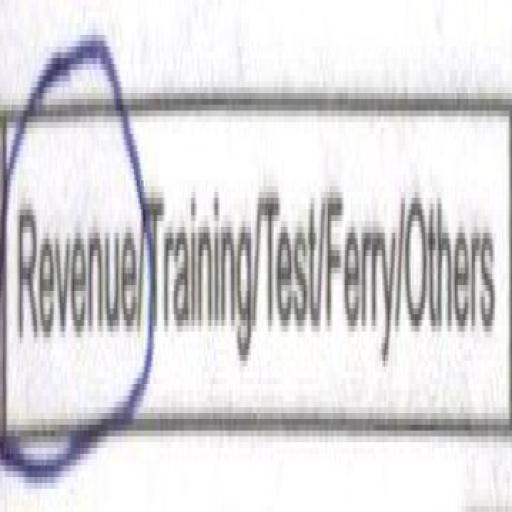check: (1, 0, 144, 512)
